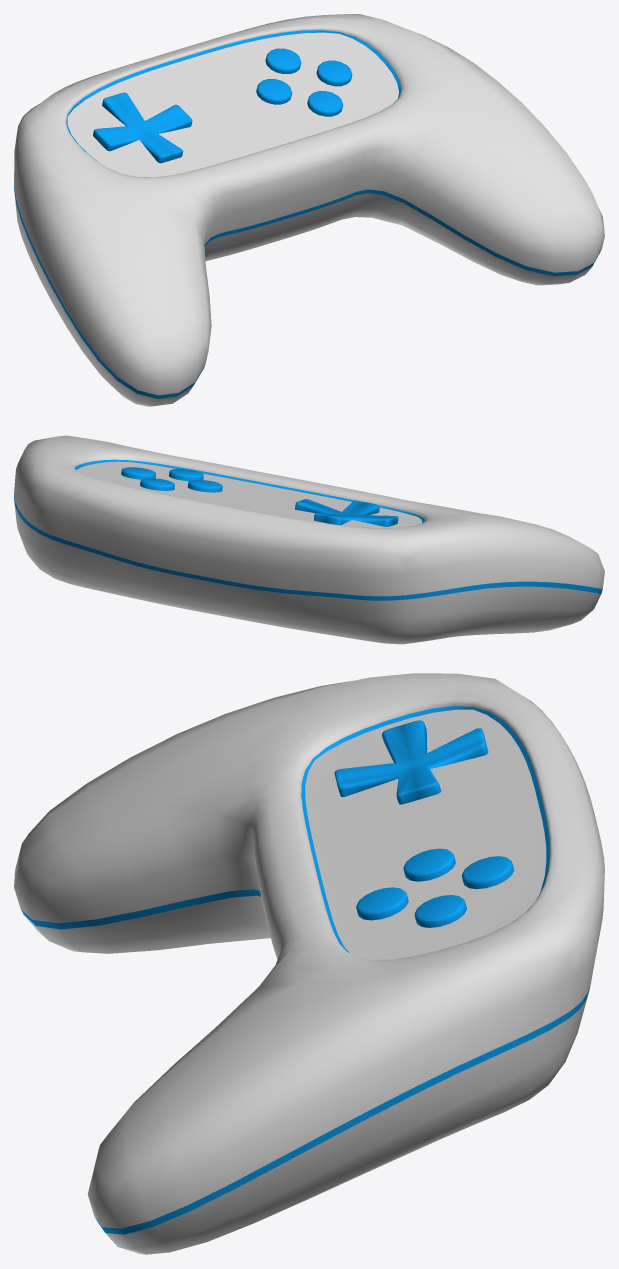
File: SM_Gaming.fbx
3 renders of one model, top to bottom at view 1: azimuth 30°, elevation 25°; view 2: azimuth 150°, elevation 25°; view 3: azimuth 270°, elevation 25°, orthographic. The views are drawn at different scales.
Visible parts, largest first — view 1: Consolas_body, Consolas_details; view 2: Consolas_body, Consolas_details; view 3: Consolas_body, Consolas_details.
Part boxes in pixels (x1,y1,x2,y2): Consolas_body: (14, 14, 604, 406); Consolas_details: (14, 30, 600, 398); Consolas_body: (14, 435, 604, 644); Consolas_details: (14, 459, 602, 600); Consolas_body: (14, 673, 604, 1254); Consolas_details: (21, 706, 590, 1234).
Size of the model in its own units: 23.38 by 8.03 by 15.42.
